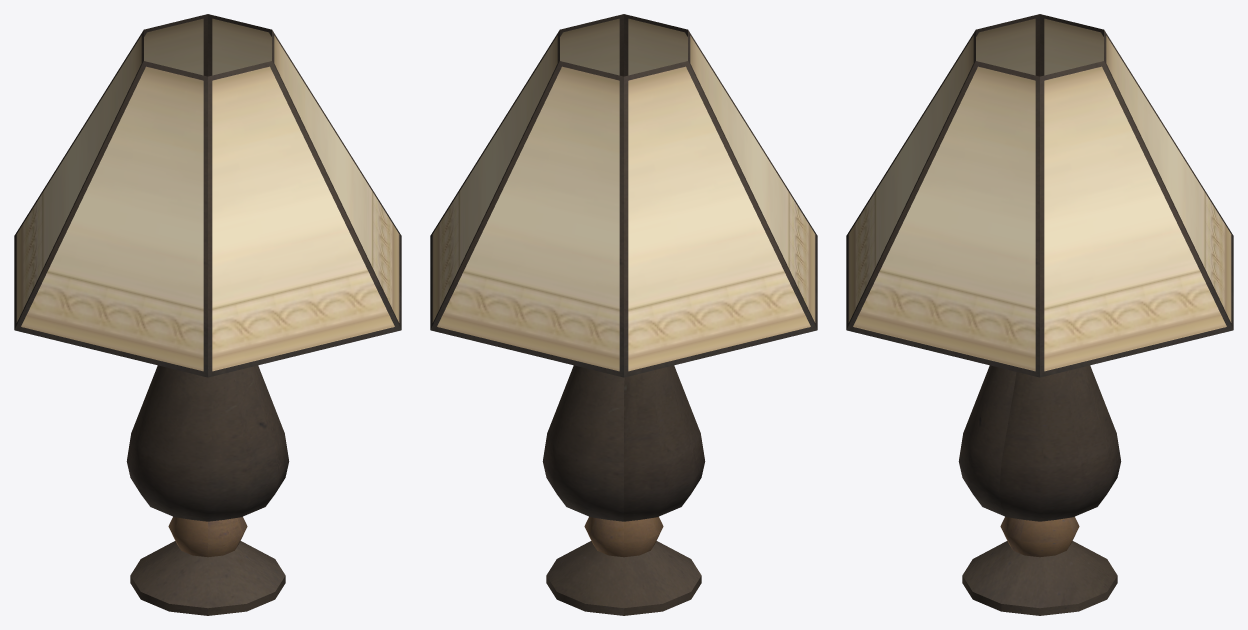
Rendered from ObjLamp.FBX.
3 views of the same model, side by side, from view 1: azimuth 30°, elevation 25°; view 2: azimuth 150°, elevation 25°; view 3: azimuth 270°, elevation 25° (orthographic).
Parts seen in each view (by area): view 1: ObjLampTop, ObjLampBase; view 2: ObjLampTop, ObjLampBase; view 3: ObjLampTop, ObjLampBase.
Part boxes in pixels (x1,y1,x2,y2): ObjLampTop: (14,14,401,377); ObjLampBase: (126,365,289,615); ObjLampTop: (430,14,817,377); ObjLampBase: (542,365,705,615); ObjLampTop: (846,14,1233,377); ObjLampBase: (958,365,1121,615).
Size of the model in its own units: 46.08 by 61.16 by 39.9.
